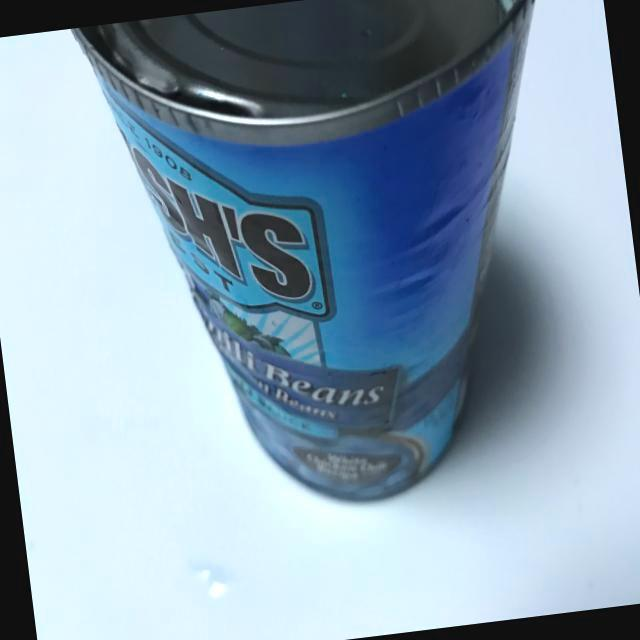metal: (63, 0, 629, 551)
